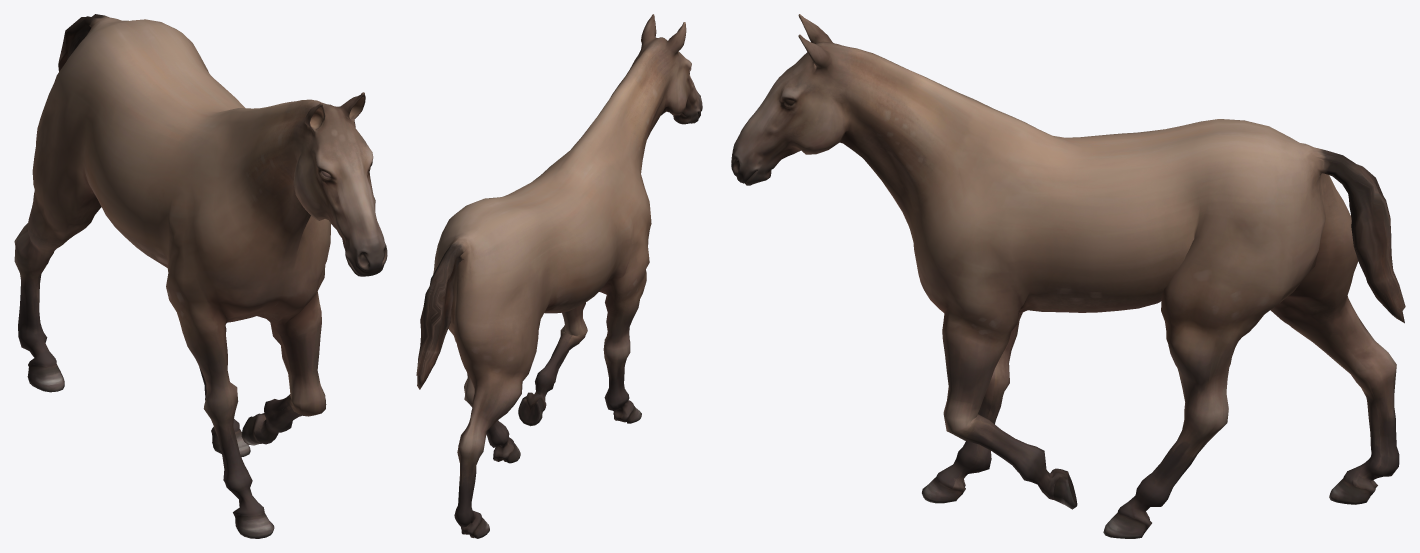
The model's file is horse_walk.dae.
The picture shows the model from 3 angles, left to right: view 1: azimuth 30°, elevation 25°; view 2: azimuth 150°, elevation 25°; view 3: azimuth 270°, elevation 25°; orthographic projection. The views are drawn at different scales.
Parts seen in each view (by area): view 1: node_0b748bd3_d464_4e48_8304_7bc8f7540140_mesh0; view 2: node_0b748bd3_d464_4e48_8304_7bc8f7540140_mesh0; view 3: node_0b748bd3_d464_4e48_8304_7bc8f7540140_mesh0.
Boxes of the visible parts, left/top/right/bottom form: node_0b748bd3_d464_4e48_8304_7bc8f7540140_mesh0: left=14, top=14, right=387, bottom=538; node_0b748bd3_d464_4e48_8304_7bc8f7540140_mesh0: left=416, top=14, right=702, bottom=538; node_0b748bd3_d464_4e48_8304_7bc8f7540140_mesh0: left=731, top=14, right=1405, bottom=538.
Size of what is drawn, in the model's own units: 6.6 by 19.41 by 24.59.
Materials: 1 (1 with a texture image).
